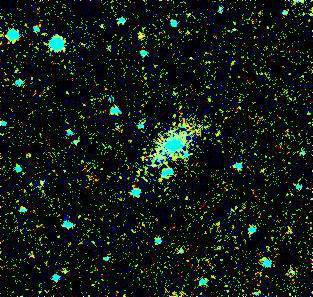star: (127, 15, 157, 45)
